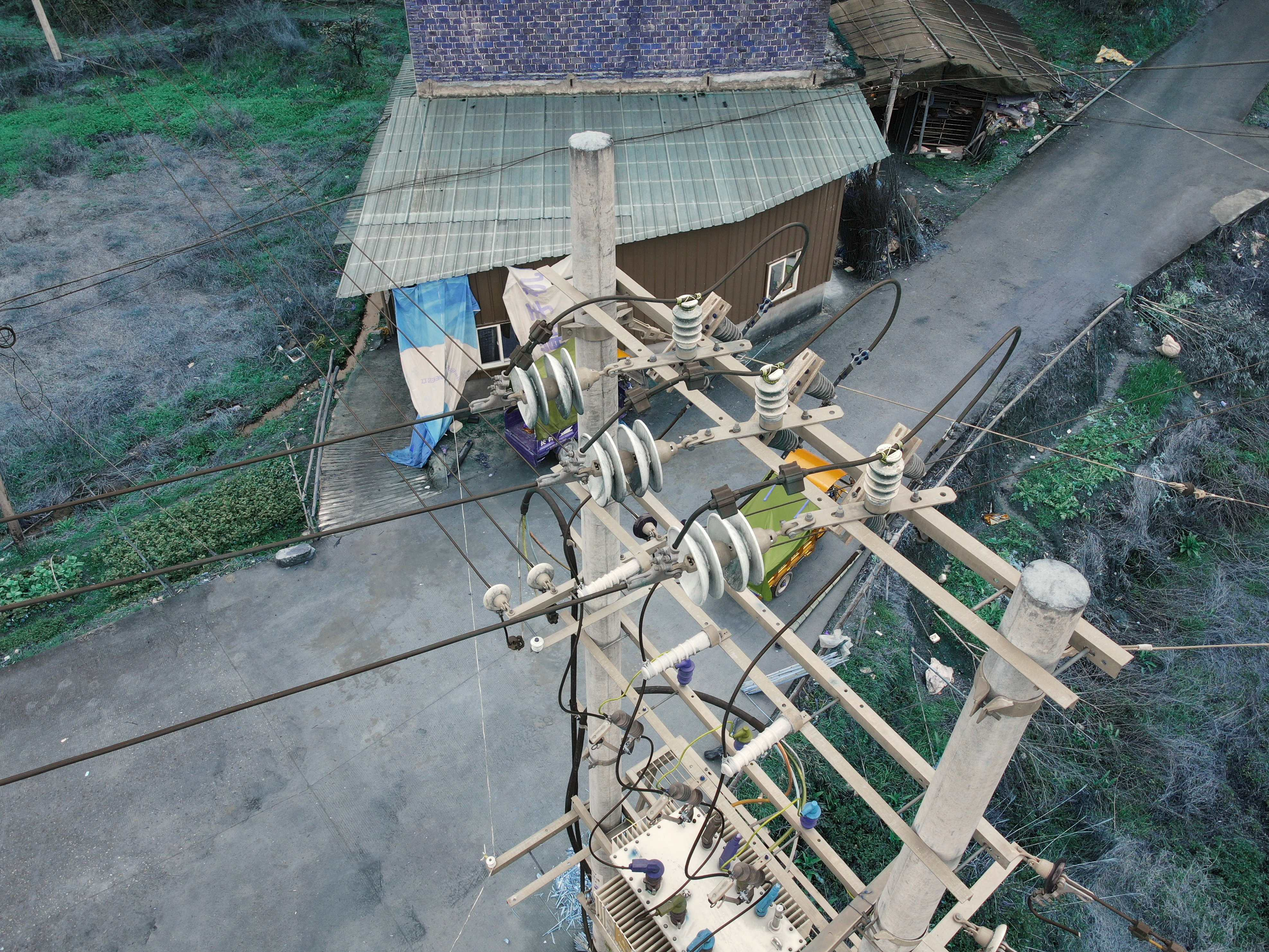severe_soiling_no_discharge_whole: (666, 508, 775, 607), (578, 417, 680, 505), (508, 343, 602, 430), (859, 444, 906, 515), (578, 553, 648, 592), (751, 363, 789, 431), (668, 294, 705, 361), (524, 562, 555, 590), (483, 582, 511, 612)
